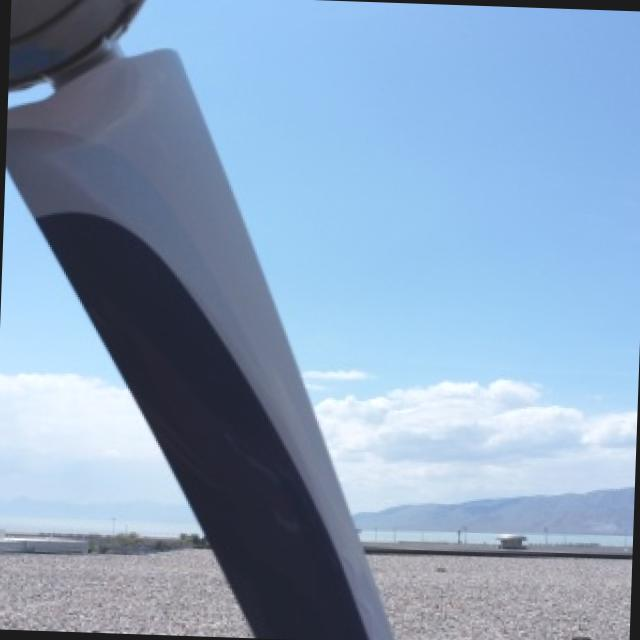healthy: (5, 0, 390, 640)
